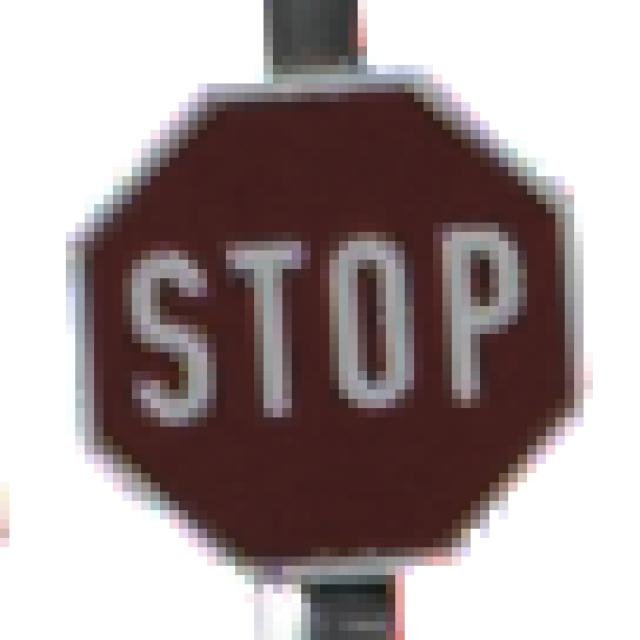STOP: (58, 57, 585, 585)
